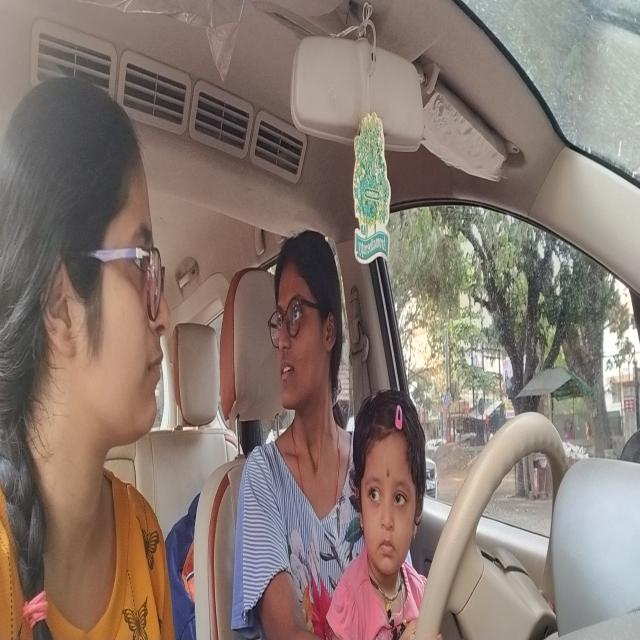LeftRight: (269, 232, 347, 418)
child: (351, 386, 429, 582)
person: (2, 78, 170, 448)
